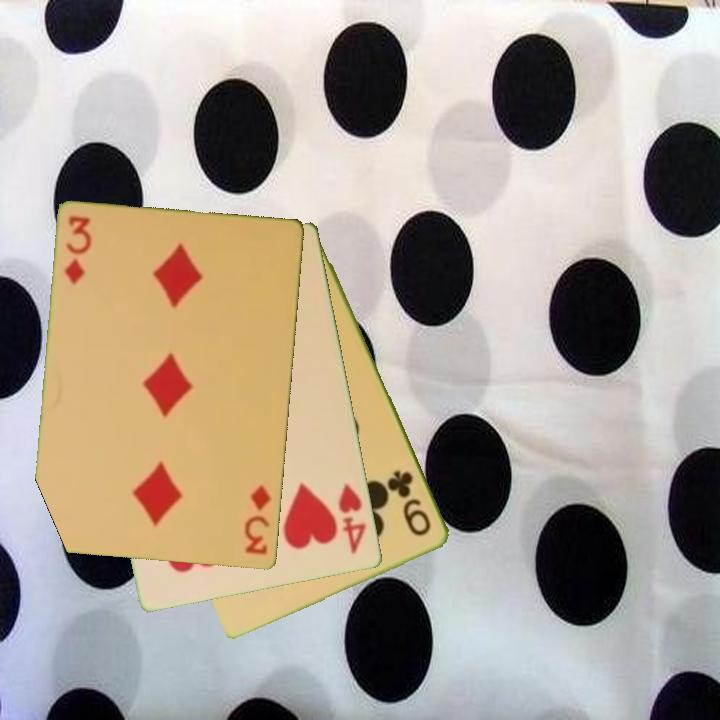3d: (241, 482, 274, 558), (61, 213, 94, 288)
4h: (335, 480, 370, 557)
9c: (386, 466, 435, 540)
